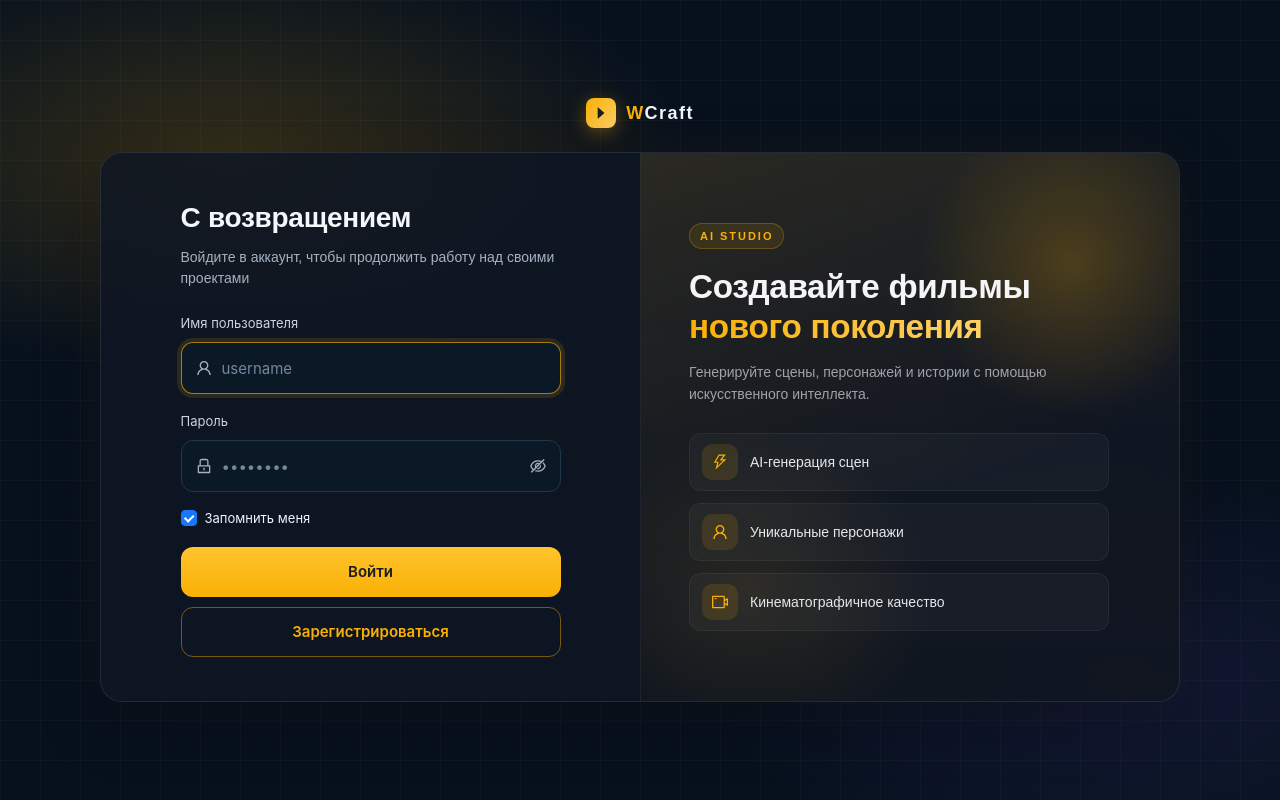
Scenario: LoginPage › shows invalid credentials for a 401 response
In the field labelled "Имя пользователя": (384, 368) [222, 343, 546, 393], type "alice"
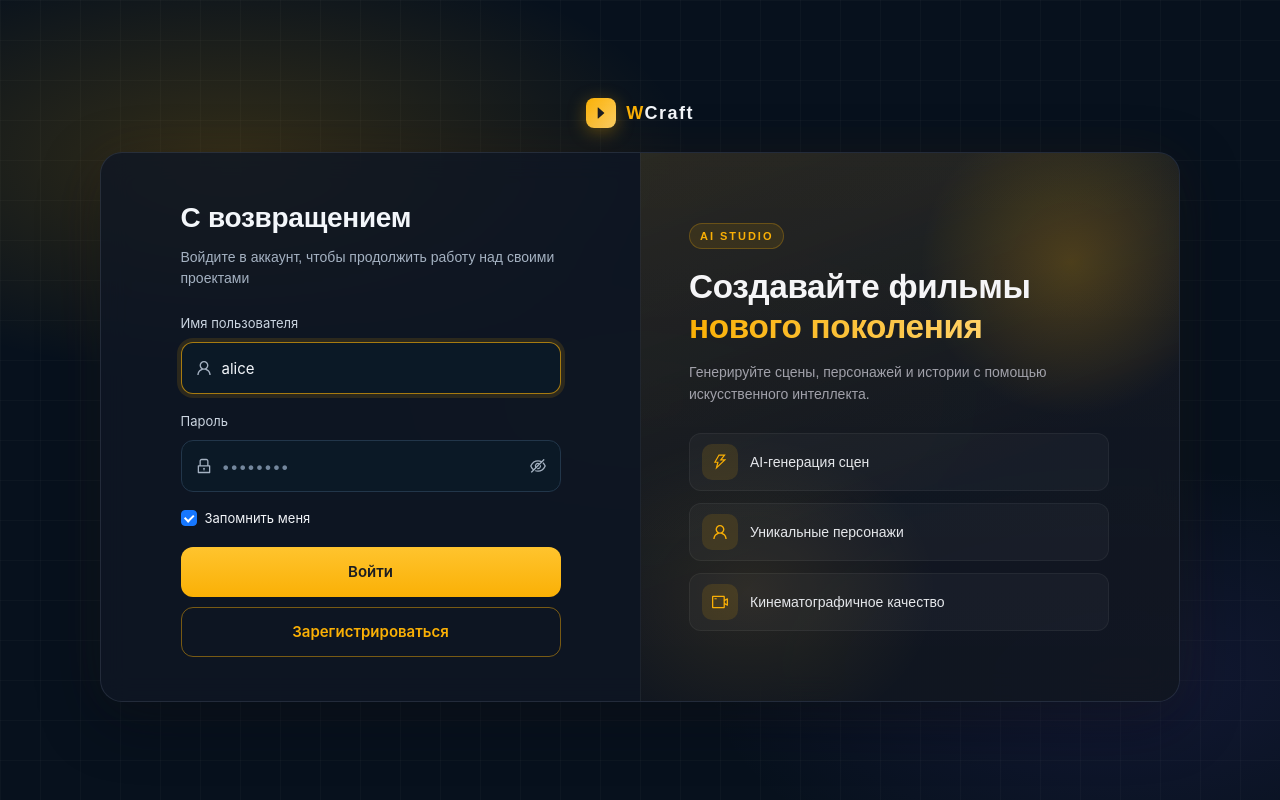
In the password field labelled "Пароль": (374, 466) [222, 441, 526, 491], type "secret-password"
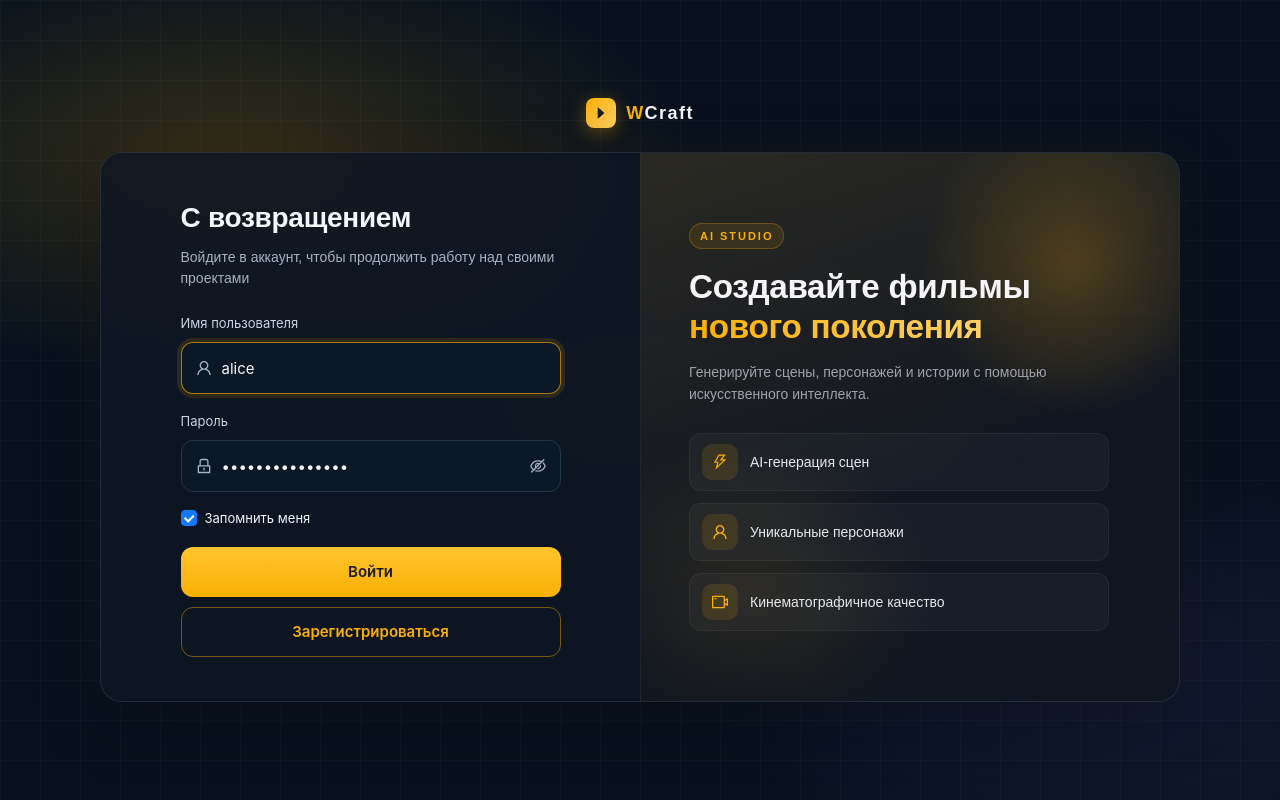
Click the button "Войти": (370, 572) [180, 546, 560, 596]
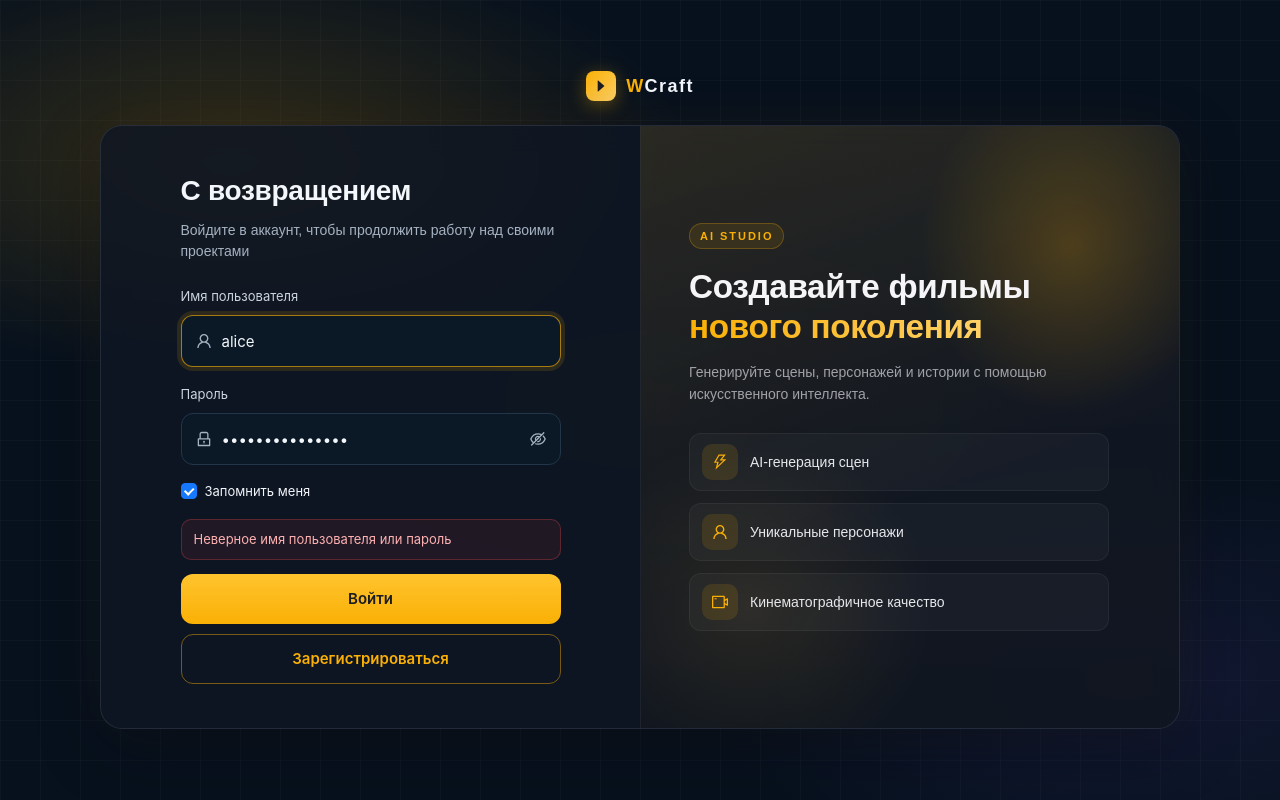
Expected: the message reads "Неверное имя пользователя или пароль", [194, 531, 452, 547]
